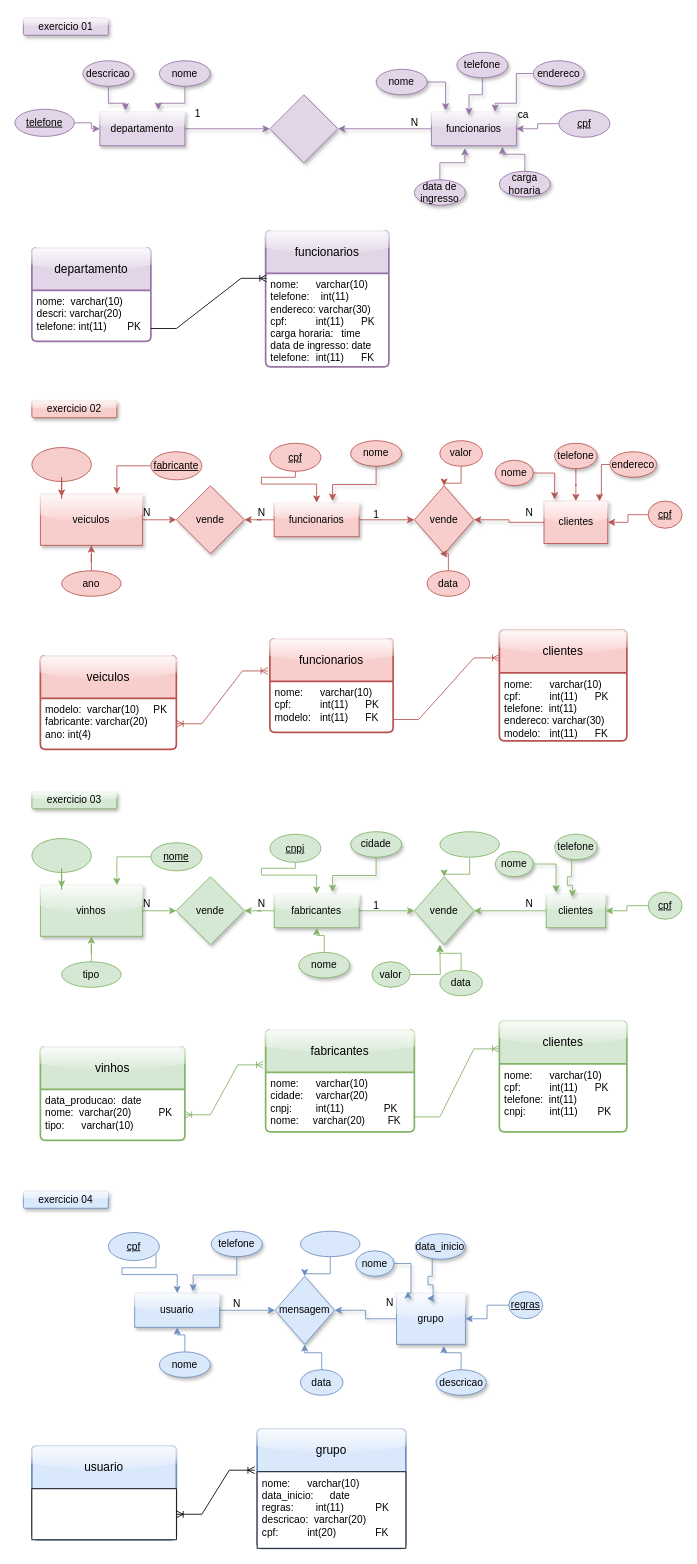
The diagram is 697 pixels wide and 1564 high, and some of its shapes have lost their labels. The shapes that lost their labels are listed below. From the top down, each one's centre as x and y in pixels, then its label:
At (304,130): "possui".
At (61,464): "modelo".
At (61,855): "data de producao".
At (469,844): "quantidade".
At (330,1243): "texto".
At (103,1514): "nome: date cpf: int(20) PK telefone: int(11)".
